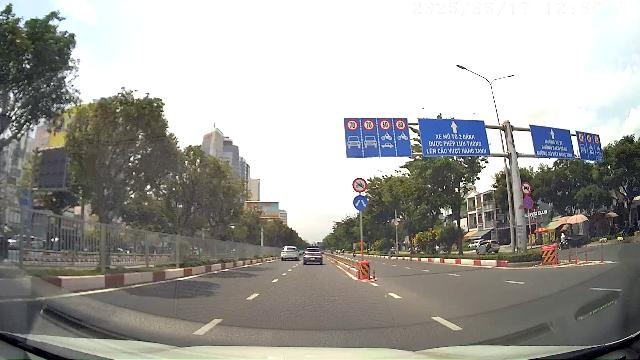127-toc-do-toi-da-60: (379, 120, 391, 130), (396, 119, 406, 131)
127-toc-do-toi-da-70: (346, 119, 358, 131), (363, 119, 375, 131)
130-cam-dung-va-do-xe: (523, 195, 533, 209)
